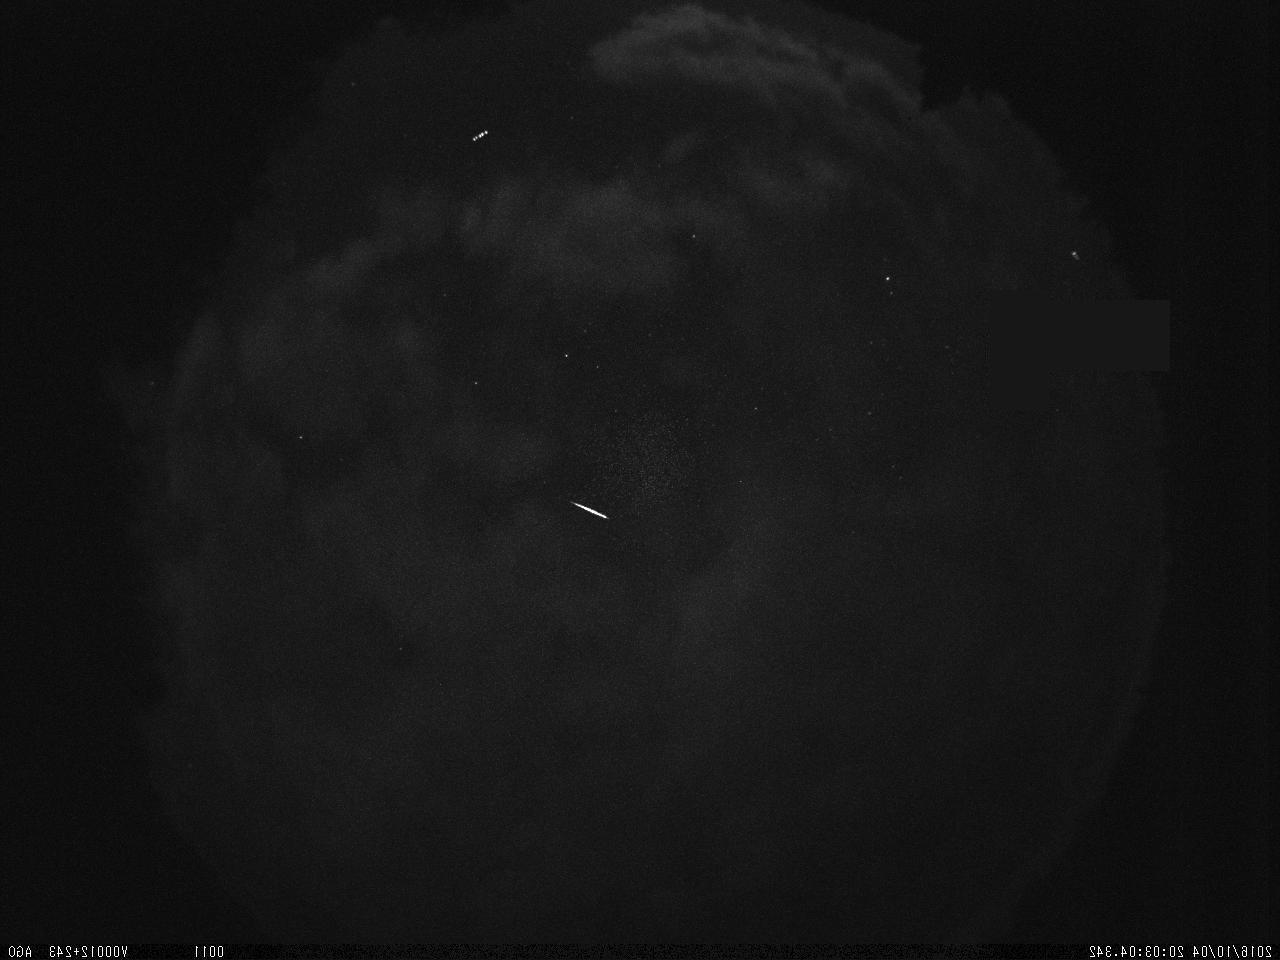meteor: (556, 492, 615, 530)
satelite: (464, 120, 496, 152)
